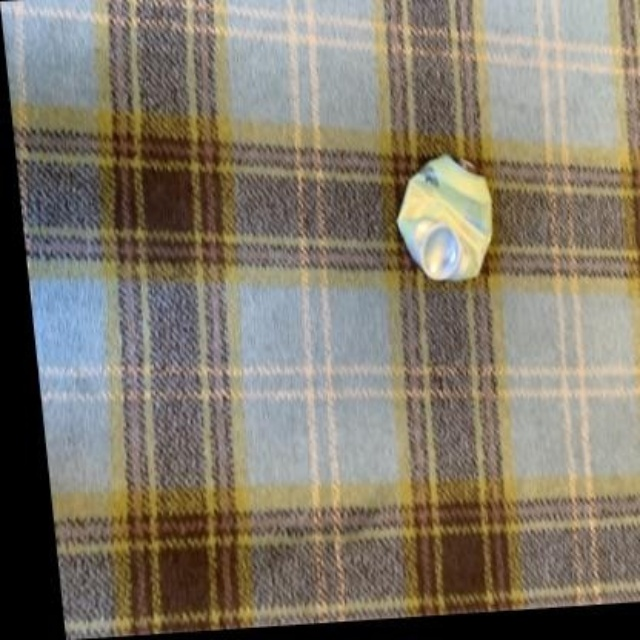trash: (397, 154, 491, 280)
